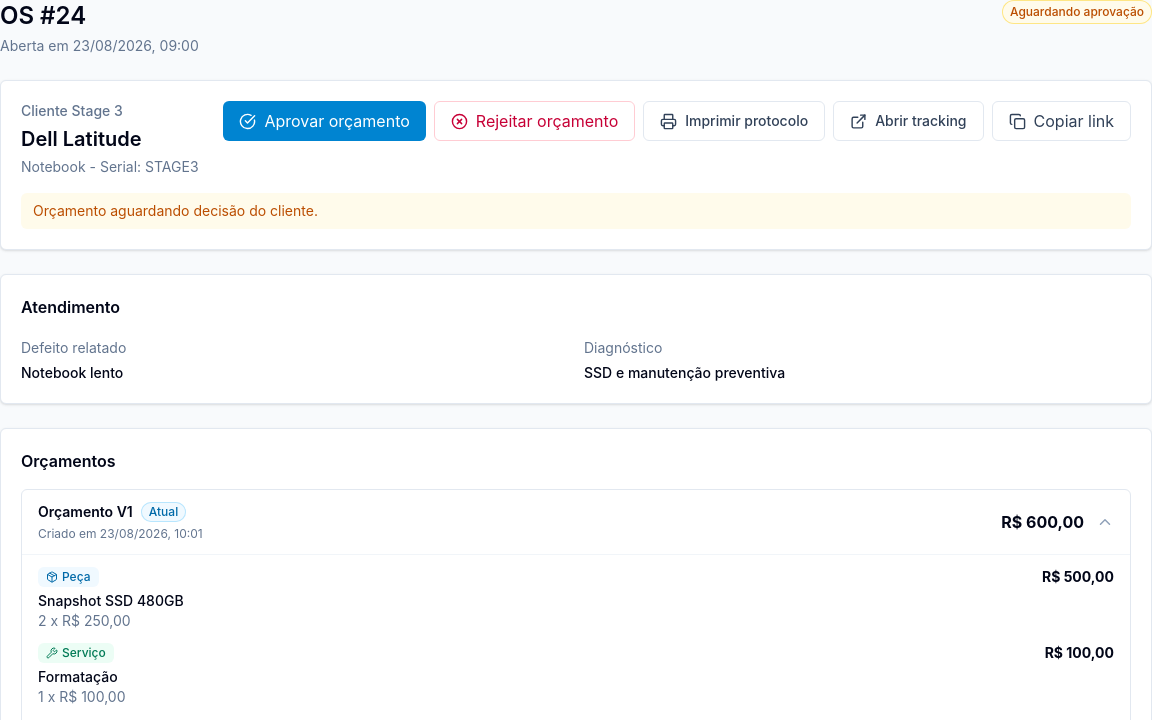
Test case: ServiceOrderDetailPage mixed budget flows › rejects a mixed budget
Expected: the heading "OS #24" is shown, [0,1,86,30]
Click the button "Rejeitar orçamento".
click(534, 121)  # box [434,101,635,141]
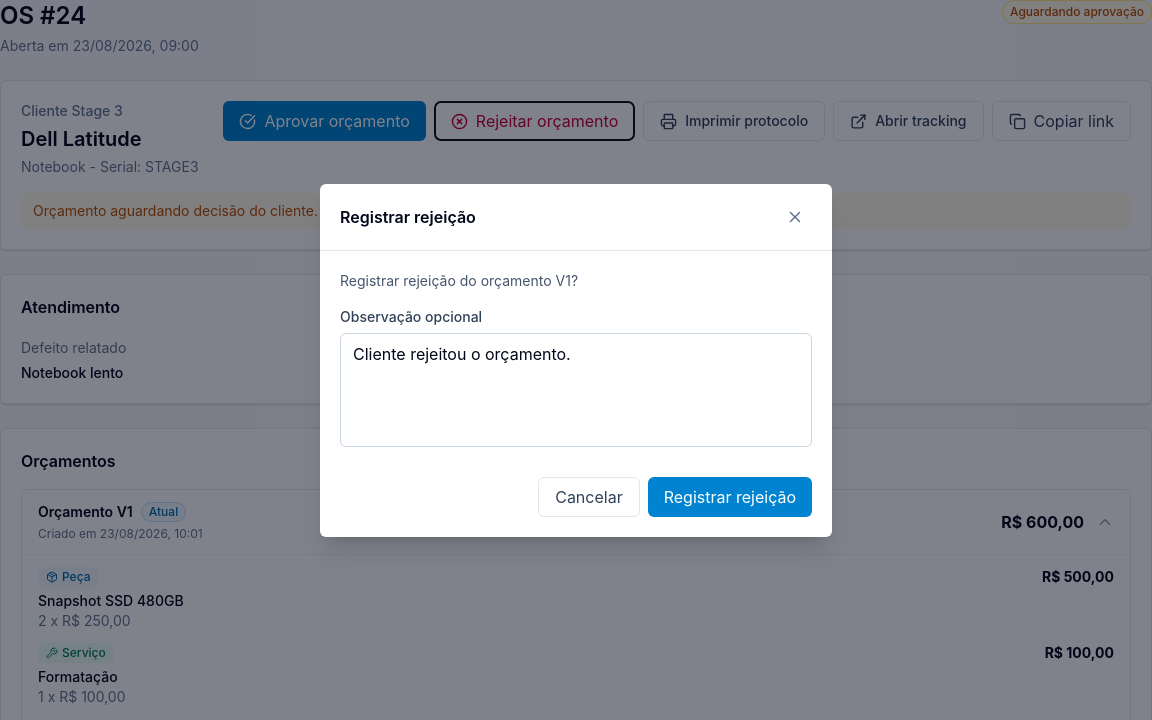
Click the button "Registrar rejeição".
click(730, 496)  # box [648,476,812,516]
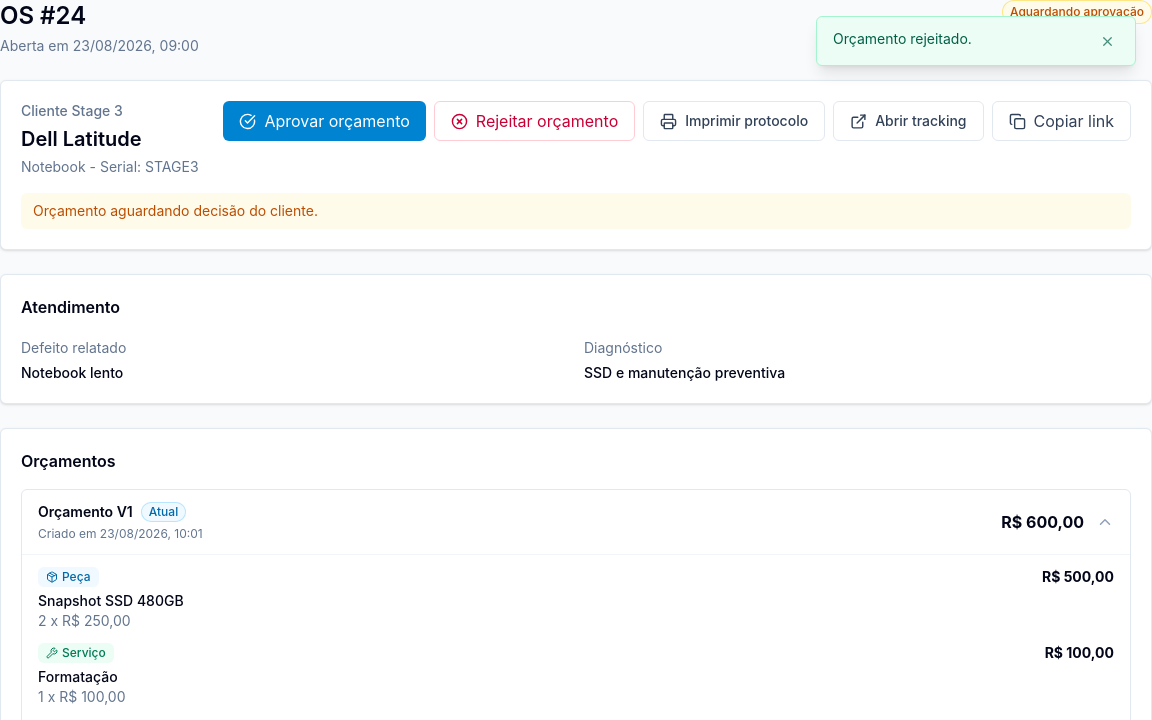
Expected: the text "Orçamento rejeitado." is shown, [833,30,972,47]
